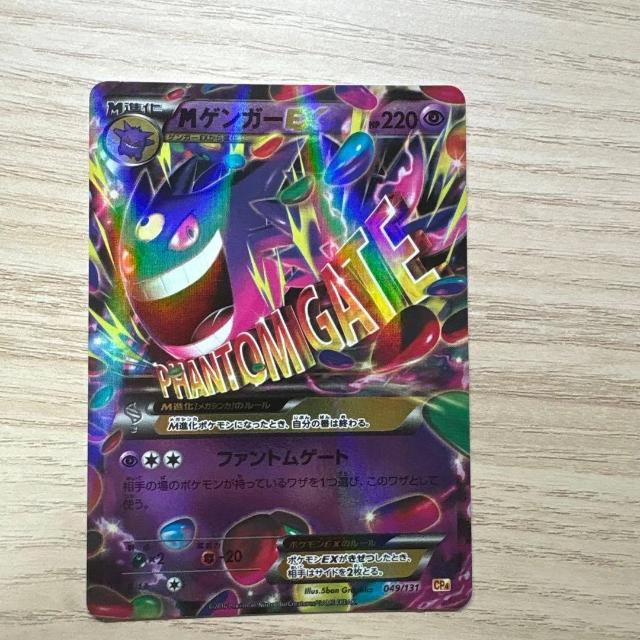Card: (84, 77, 476, 629)
Name: (173, 102, 338, 134)
